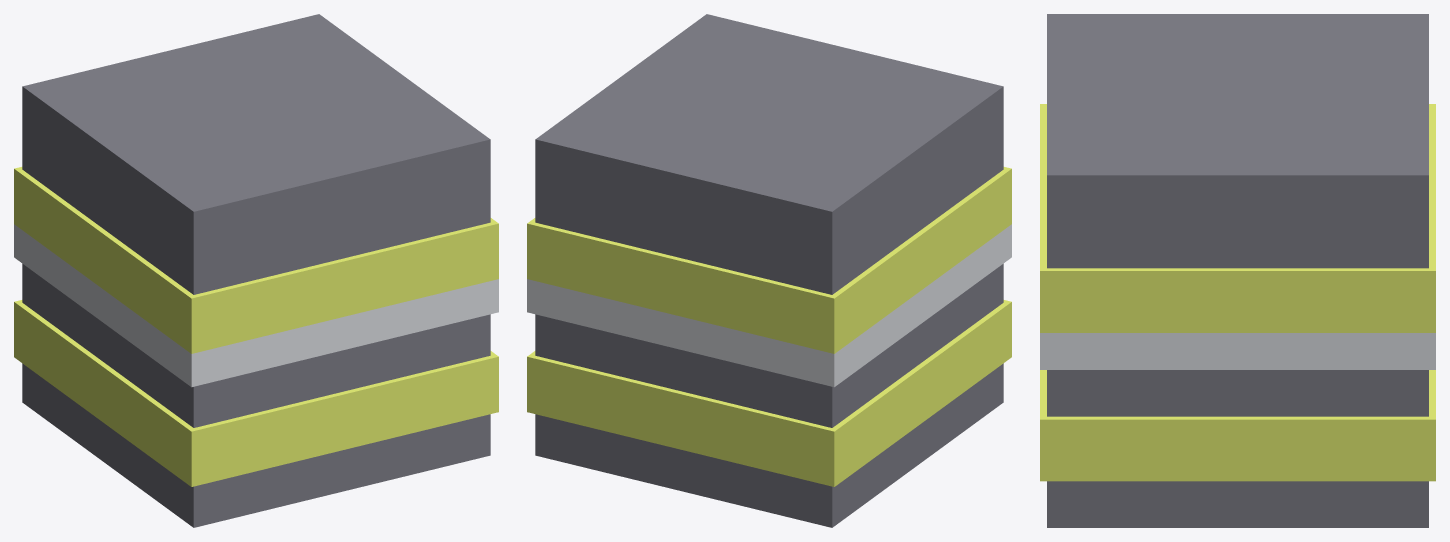
The model's file is bombeiro_resgate_canela.glb.
3 renders of one model, left to right at view 1: azimuth 30°, elevation 25°; view 2: azimuth 150°, elevation 25°; view 3: azimuth 270°, elevation 25°, orthographic. The views are drawn at different scales.
Visible parts, largest first — view 1: bombeiro_resgate_canela; view 2: bombeiro_resgate_canela; view 3: bombeiro_resgate_canela.
Boxes of the visible parts, bbox=[...] form: bombeiro_resgate_canela: bbox=[14, 14, 498, 527]; bombeiro_resgate_canela: bbox=[527, 14, 1011, 527]; bombeiro_resgate_canela: bbox=[1040, 14, 1435, 527].
Size of the model in its own units: 0.29 by 0.285 by 0.29.
